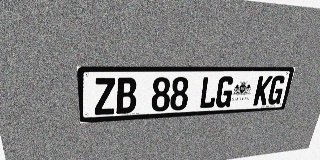8: (151, 77, 172, 112), (169, 77, 190, 111)
B: (116, 77, 137, 114)
G: (215, 76, 235, 108), (266, 75, 287, 105)
K: (253, 76, 273, 106)
L: (198, 76, 219, 109)
Z: (93, 78, 116, 115)
